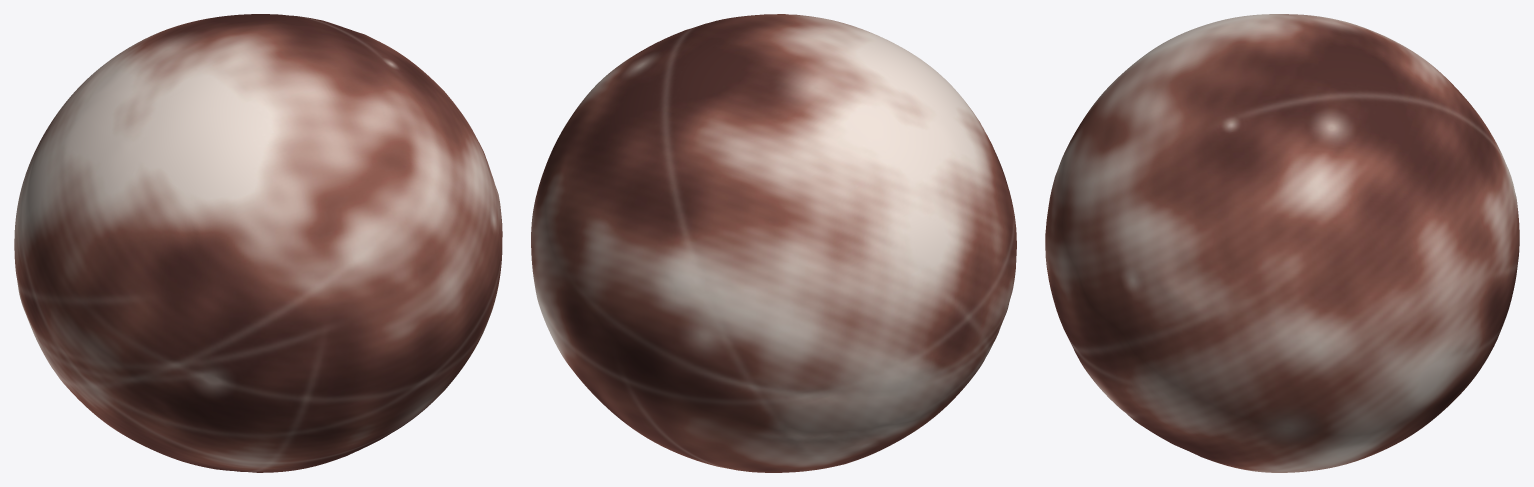
The model's file is eps_002.glb.
3 views of the same model, side by side, from view 1: azimuth 30°, elevation 25°; view 2: azimuth 150°, elevation 25°; view 3: azimuth 270°, elevation 25° (orthographic).
Parts seen in each view (by area): view 1: eps_002_body; view 2: eps_002_body; view 3: eps_002_body.
Boxes of the visible parts, x1,y1,x2,y2 form: eps_002_body: (14,14,502,472); eps_002_body: (531,14,1016,472); eps_002_body: (1045,14,1519,472).
Size of the model in its own units: 2.04 by 1.9 by 2.
1 material, 1 textured.
